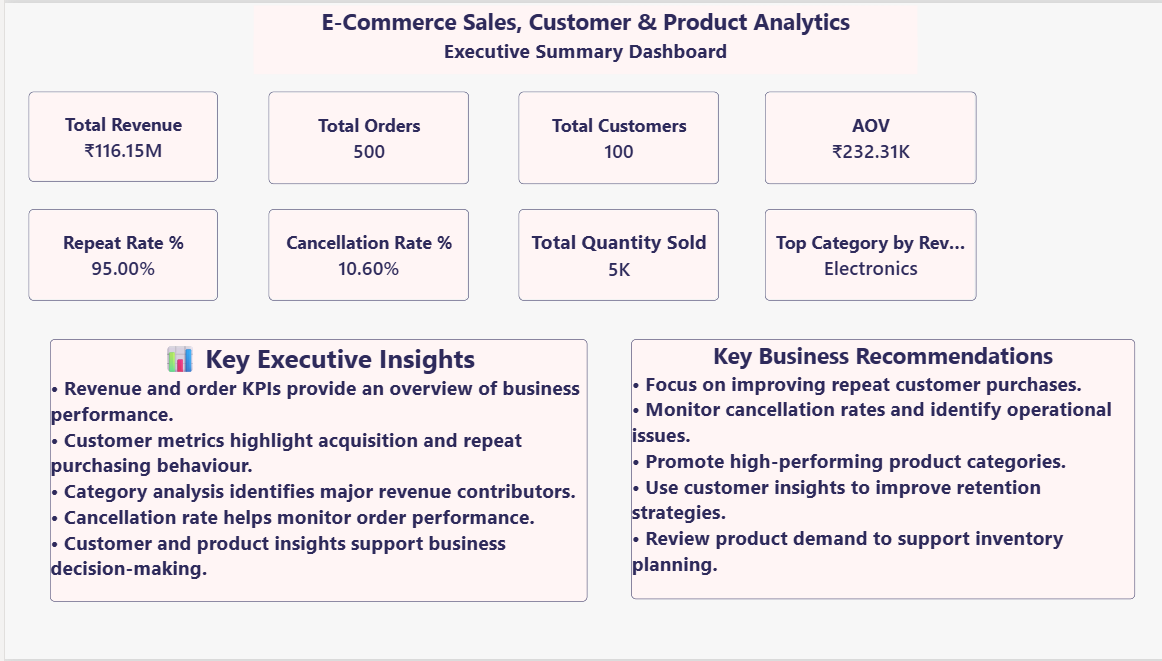

The page's visual inventory and layout, read from the dashboard file:
{"tool":"powerbi","page":{"name":"Executive Summary","canvas":[1920,1080],"ordinal":5},"visuals":[{"type":"textbox","box":[409.6,4.1,1093,98.8],"z":0},{"type":"textbox","box":[409.6,55.6,1093,61.7],"z":1},{"type":"cardVisual","fields":{"Data":["order_items.Total Revenue"]},"box":[39.1,146.1,310.8,148.2],"z":2},{"type":"cardVisual","fields":{"Data":["orders.Total Orders"]},"box":[434.3,146.1,329.3,152.3],"z":3},{"type":"cardVisual","fields":{"Data":["customers.Total Customers"]},"box":[846,146.1,329.3,152.3],"z":4},{"type":"cardVisual","fields":{"Data":["order_items.AOV"]},"box":[1251.5,146.1,389,152.3],"z":5},{"type":"cardVisual","fields":{"Data":["Customer Summary.Repeat Rate %"]},"box":[39.1,339.6,310.8,150.3],"z":6},{"type":"cardVisual","fields":{"Data":["orders.Cancellation Rate %"]},"box":[434.3,335.5,329.3,150.3],"z":7},{"type":"cardVisual","fields":{"Data":["order_items.Total Quantity Sold"]},"box":[846,335.5,329.3,154.4],"z":8},{"type":"cardVisual","fields":{"Data":["products.Top Category by Revenue"]},"box":[1251.5,335.5,389,150.3],"z":9},{"type":"textbox","box":[74.1,553.7,885.1,432.2],"z":10},{"type":"textbox","box":[1031.2,553.7,829.5,428.1],"z":11}]}

Visuals, with their boxes in screenshot pixels (x1, y1, x2, y2), scaled from the page's 1920x1080 canvas onto the 1162x661 screenshot:
textbox: x1=248, y1=3, x2=909, y2=63
textbox: x1=248, y1=34, x2=909, y2=72
cardVisual - order_items.Total Revenue: x1=24, y1=89, x2=212, y2=180
cardVisual - orders.Total Orders: x1=263, y1=89, x2=462, y2=183
cardVisual - customers.Total Customers: x1=512, y1=89, x2=711, y2=183
cardVisual - order_items.AOV: x1=757, y1=89, x2=993, y2=183
cardVisual - Customer Summary.Repeat Rate %: x1=24, y1=208, x2=212, y2=300
cardVisual - orders.Cancellation Rate %: x1=263, y1=205, x2=462, y2=297
cardVisual - order_items.Total Quantity Sold: x1=512, y1=205, x2=711, y2=300
cardVisual - products.Top Category by Revenue: x1=757, y1=205, x2=993, y2=297
textbox: x1=45, y1=339, x2=581, y2=603
textbox: x1=624, y1=339, x2=1126, y2=601
